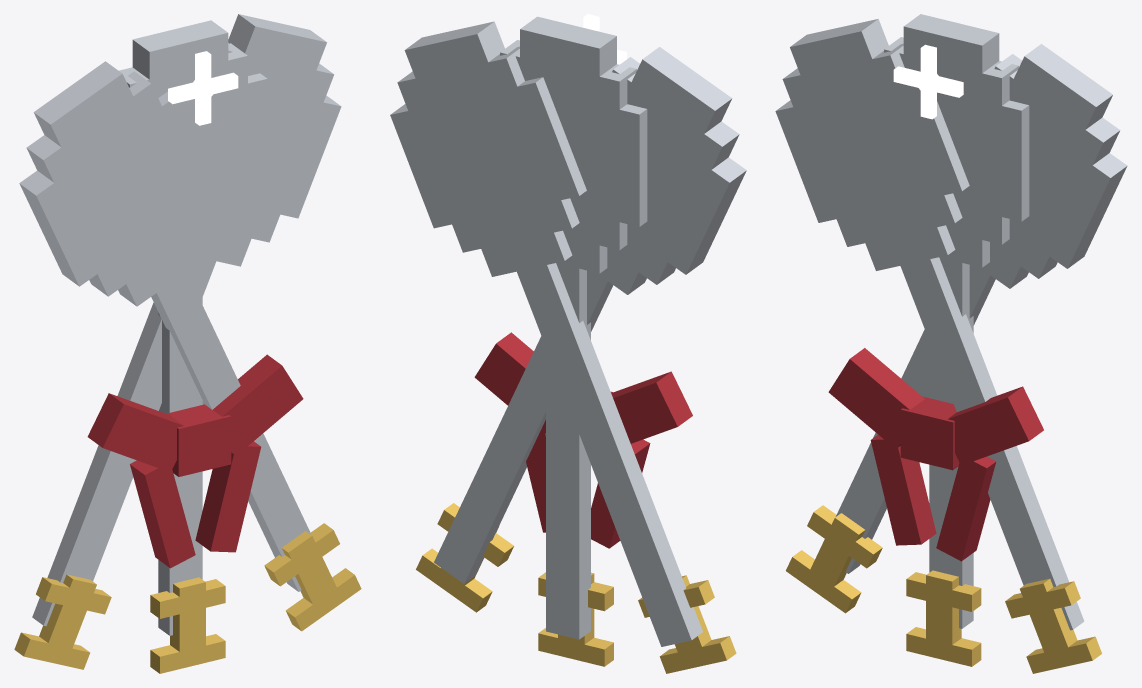
3 views of the same model, side by side, from view 1: azimuth 30°, elevation 25°; view 2: azimuth 150°, elevation 25°; view 3: azimuth 330°, elevation 25° (orthographic).
Visible parts, largest first — view 1: R020_Main, R020_Accent, R020_Trim, R020_Glow; view 2: R020_Main, R020_Accent, R020_Trim; view 3: R020_Main, R020_Accent, R020_Trim, R020_Glow.
Boxes of the visible parts, x1,y1,x2,y2 form: R020_Main: (19, 14, 341, 635); R020_Accent: (87, 354, 303, 568); R020_Trim: (14, 523, 361, 673); R020_Glow: (168, 51, 238, 125); R020_Main: (390, 16, 746, 646); R020_Accent: (474, 332, 692, 548); R020_Trim: (416, 503, 736, 673); R020_Main: (775, 14, 1127, 630); R020_Accent: (828, 348, 1043, 561); R020_Trim: (786, 505, 1101, 673); R020_Glow: (893, 44, 963, 119).
Bounding box in the file's own units: 0.984 × 1.81 × 0.217.
